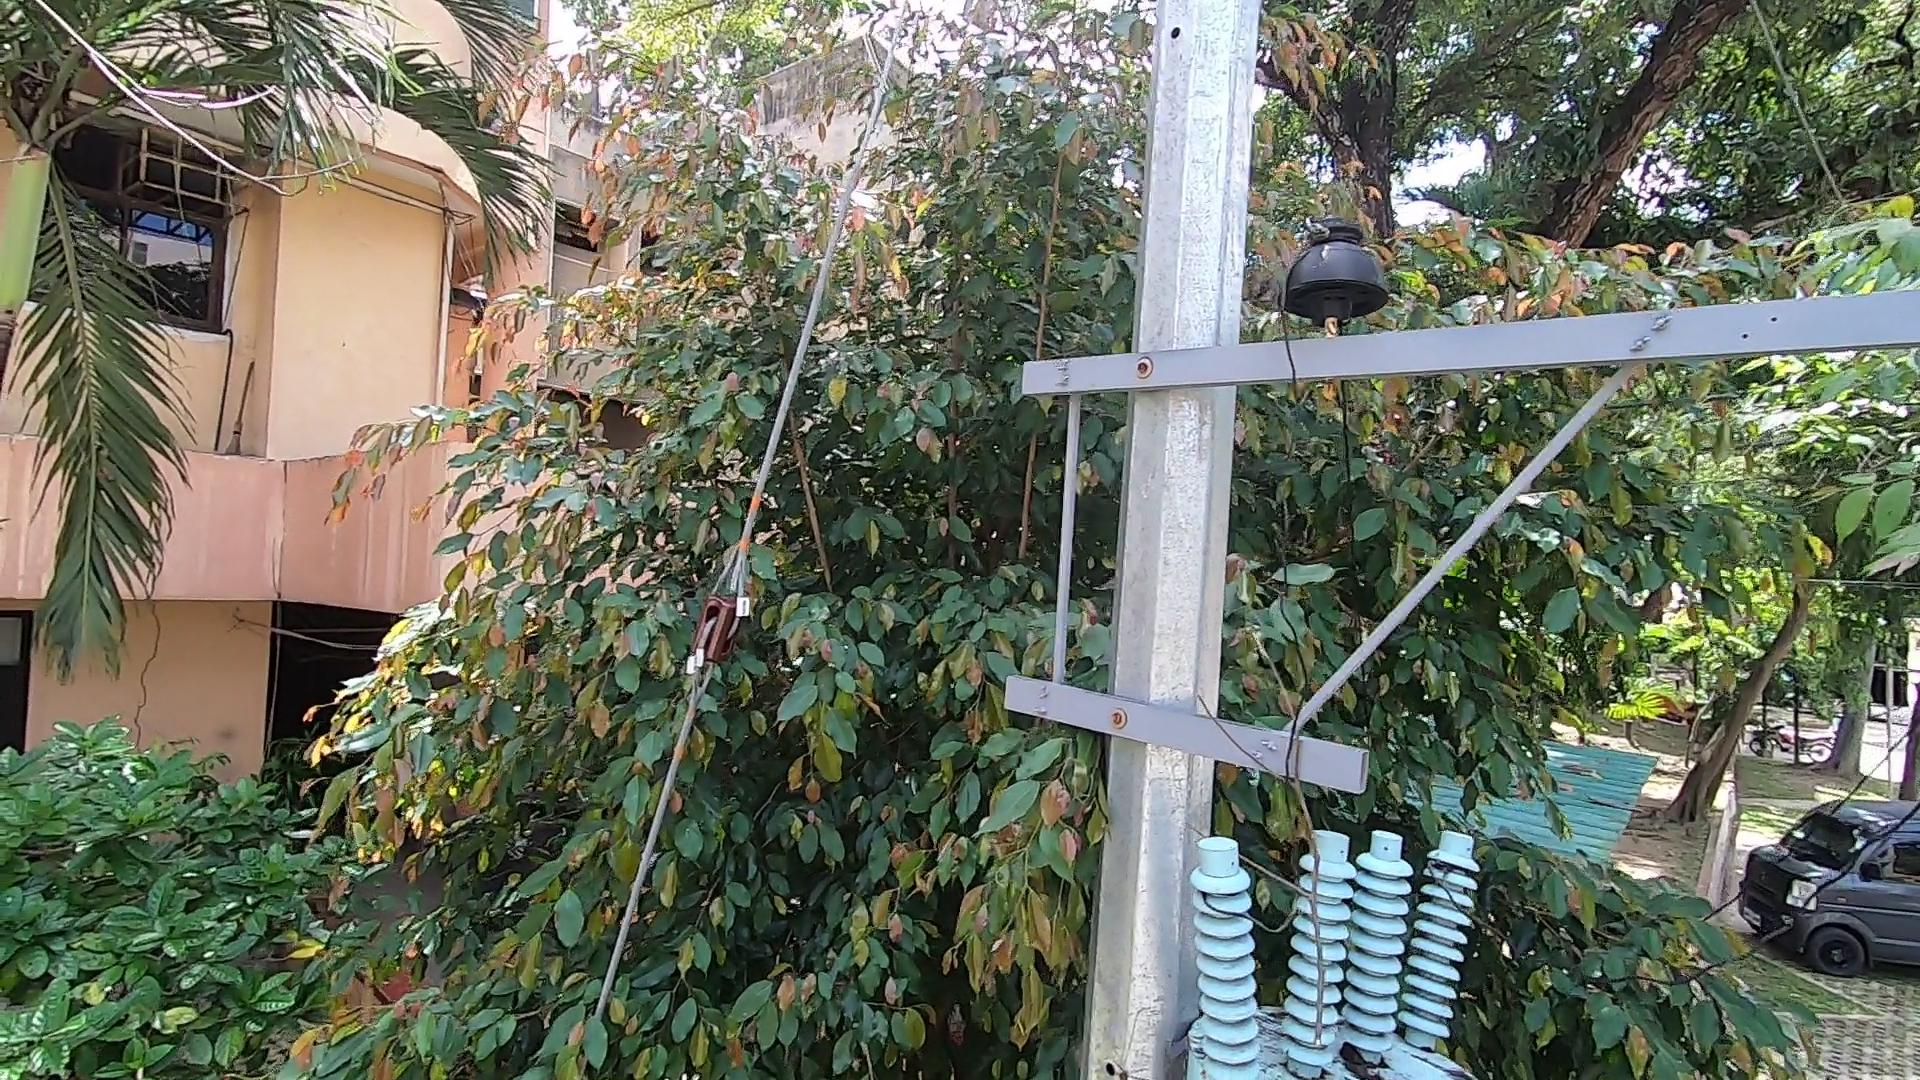leaf: (1331, 1030, 1387, 1080)
tree branch: (1189, 593, 1356, 1054)
